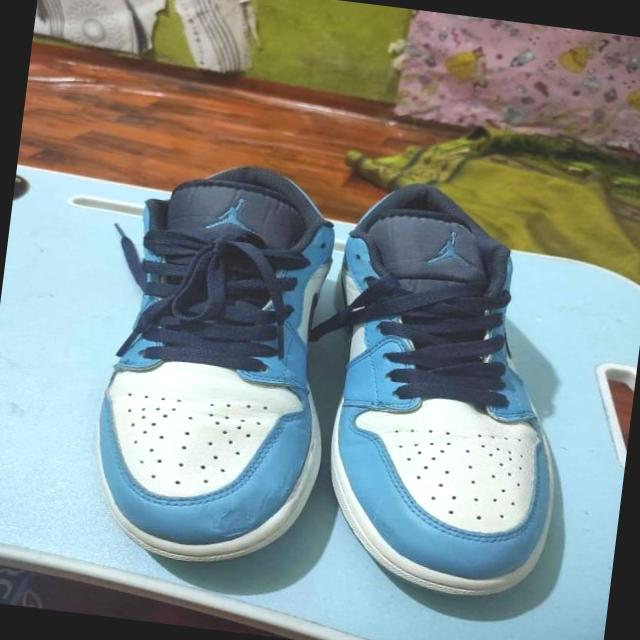nike_fake_jordan: (298, 171, 600, 608), (79, 153, 354, 581)
